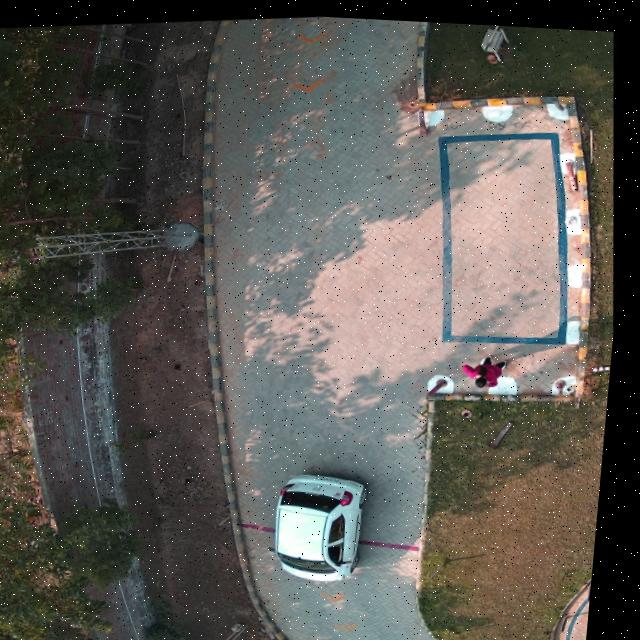car: (283, 469, 376, 577)
